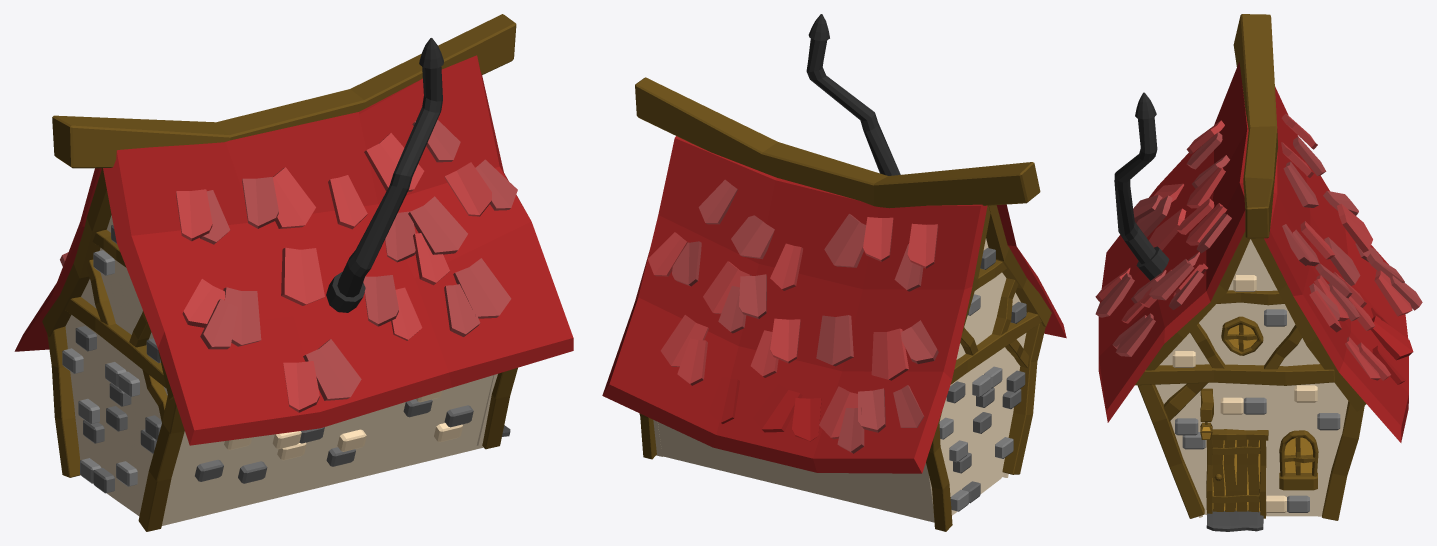
The model's file is House.fbx.
The picture shows the model from 3 angles, left to right: view 1: azimuth 30°, elevation 25°; view 2: azimuth 150°, elevation 25°; view 3: azimuth 270°, elevation 25°; orthographic projection. The views are drawn at different scales.
Visible parts, largest first — view 1: Plane.004, Plane.005, Cube.024, Plane.003, Cylinder, Cube.013, Cube.016, Cube.012, Cube.134, Cube.014, Plane.002, Cube.128 (+22 smaller); view 2: Plane.002, Cube.024, Plane.015, Plane.003, Cylinder, Cube.013, Cube.015, Cube.012, Cube.112, Cube.014, Cube.108, Cube.104 (+26 smaller); view 3: Plane.004, Plane, Plane.002, Cube.024, Cylinder, Cube.002, Cube.001, Cube.004, Cube, Cube.003, Cube.153, Cube.106 (+55 smaller).
Boxes of the visible parts, <box> form: Plane.004: <box>103,55,573,445</box>; Plane.005: <box>162,375,493,525</box>; Cube.024: <box>52,14,516,168</box>; Plane.003: <box>65,215,167,515</box>; Cylinder: <box>326,38,443,312</box>; Cube.013: <box>138,395,184,531</box>; Cube.016: <box>42,168,111,336</box>; Cube.012: <box>47,326,80,477</box>; Cube.134: <box>281,247,324,305</box>; Cube.014: <box>65,297,166,388</box>; Plane.002: <box>14,168,101,351</box>; Cube.128: <box>303,339,361,400</box>; Plane.002: <box>602,136,987,473</box>; Cube.024: <box>635,77,1040,208</box>; Plane.015: <box>658,422,934,522</box>; Plane.003: <box>929,238,1026,515</box>; Cylinder: <box>806,14,900,175</box>; Cube.013: <box>1002,323,1045,474</box>; Cube.015: <box>986,205,1051,326</box>; Cube.012: <box>926,424,952,531</box>; Cube.112: <box>816,315,853,366</box>; Cube.014: <box>950,312,1041,384</box>; Cube.108: <box>871,328,908,380</box>; Cube.104: <box>824,214,866,267</box>; Plane.004: <box>1098,62,1248,422</box>; Plane: <box>1155,239,1348,516</box>; Plane.002: <box>1264,86,1408,442</box>; Cube.024: <box>1233,14,1277,238</box>; Cylinder: <box>1114,92,1169,280</box>; Cube.002: <box>1135,364,1334,385</box>; Cube.001: <box>1137,384,1204,518</box>; Cube.004: <box>1251,238,1366,411</box>; Cube: <box>1322,401,1364,520</box>; Cube.003: <box>1146,231,1250,370</box>; Cube.153: <box>1206,510,1263,531</box>; Cube.106: <box>1370,315,1413,360</box>.
Size of the model in its own units: 2195 by 2109 by 1600.
